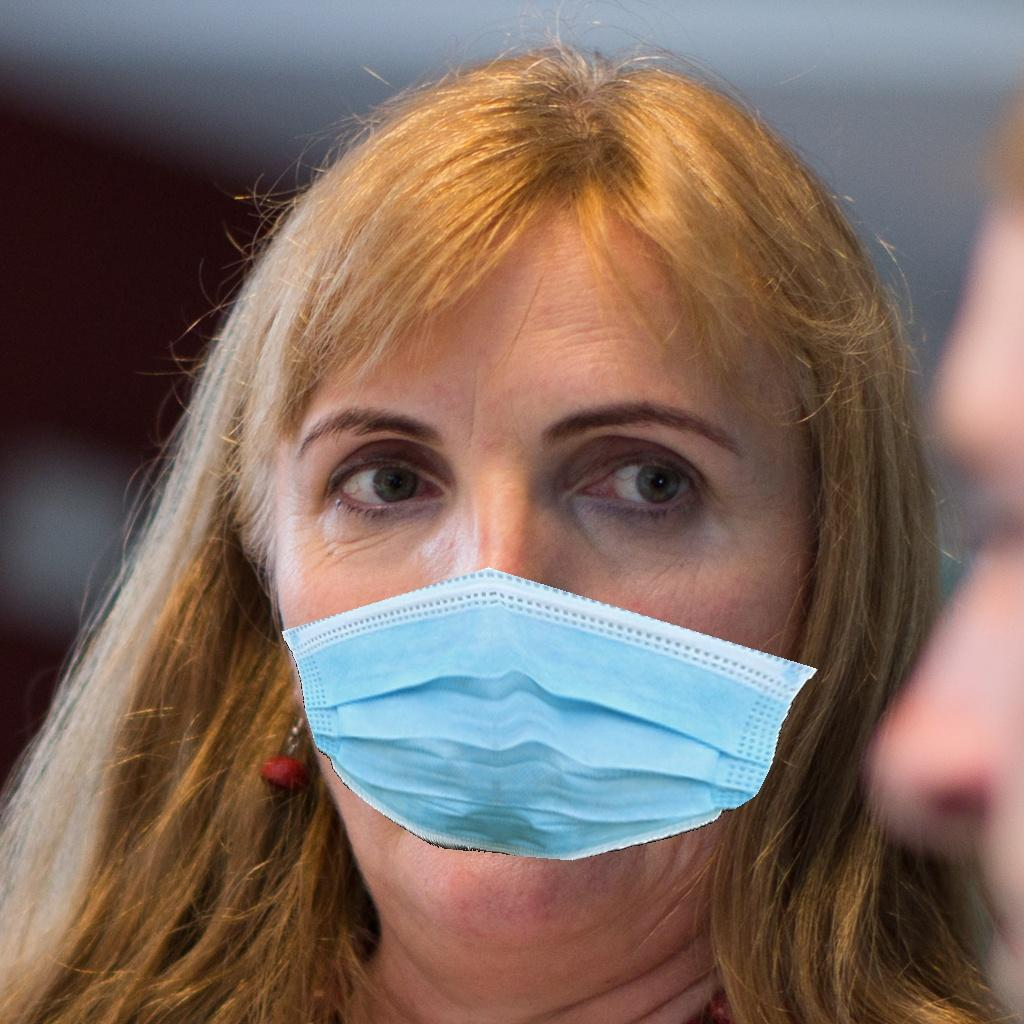Com Máscara: (282, 309, 796, 939)
